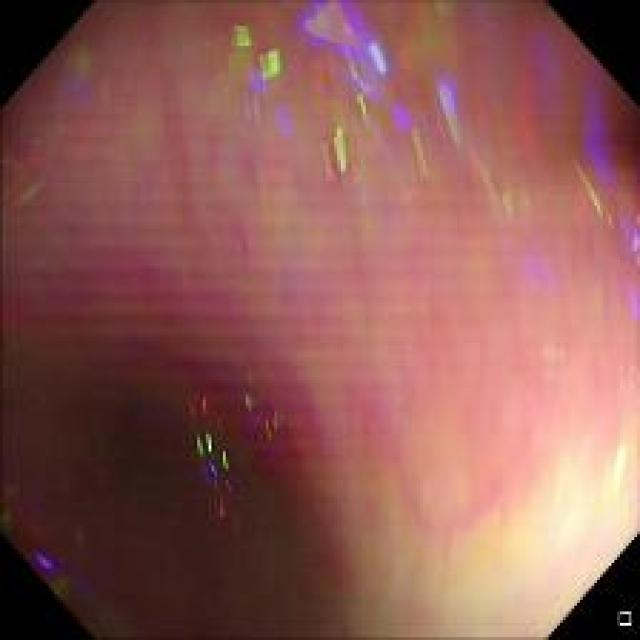color misalignment: (6, 5, 634, 535), (182, 366, 286, 529), (565, 74, 635, 270), (306, 4, 390, 125), (486, 19, 561, 145), (220, 16, 292, 135), (469, 151, 539, 222), (52, 35, 102, 112), (431, 70, 470, 149), (515, 245, 562, 301), (315, 120, 355, 178), (400, 118, 431, 181), (28, 548, 66, 581)
saturation: (445, 504, 624, 628)
specularity: (598, 434, 630, 515)
